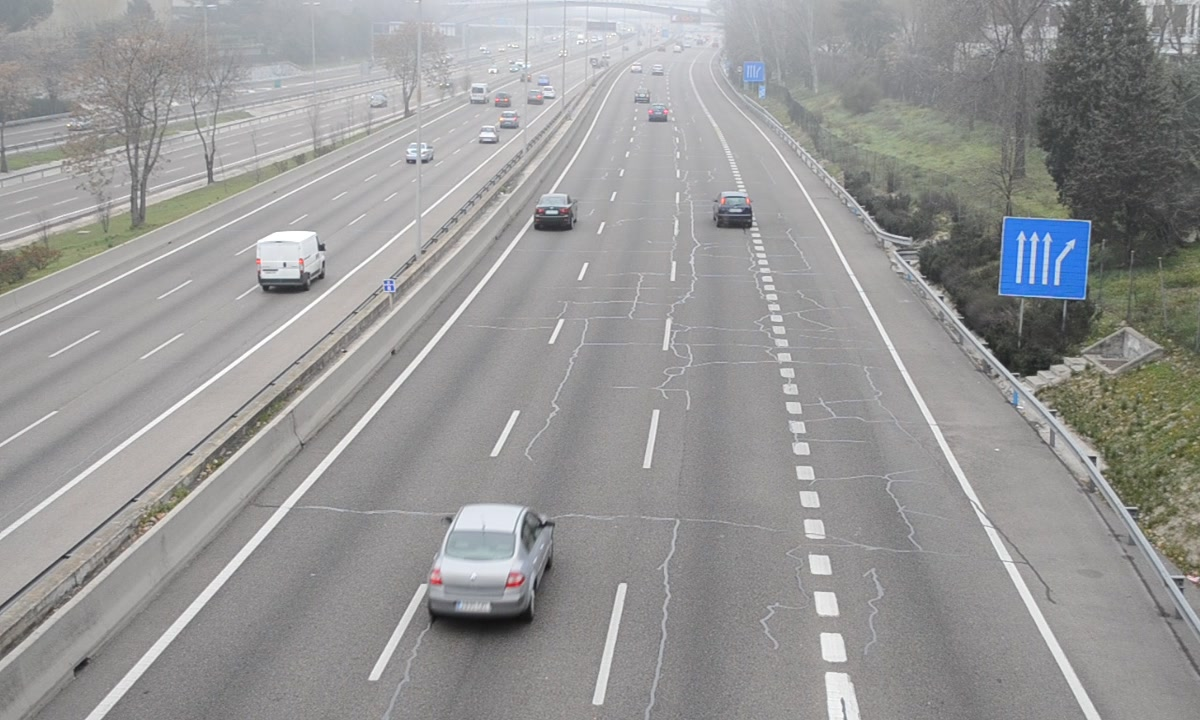car: (429, 504, 555, 618), (533, 193, 576, 229), (714, 190, 753, 227)
